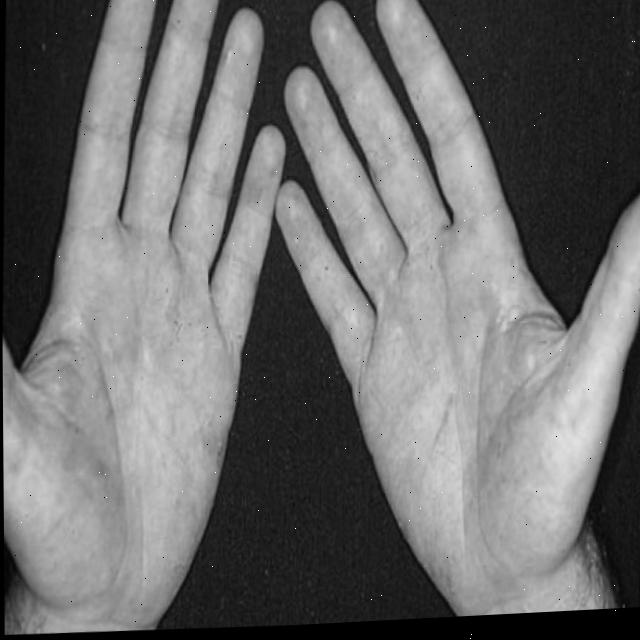Eczema: (1, 114, 241, 638), (331, 177, 593, 587)
